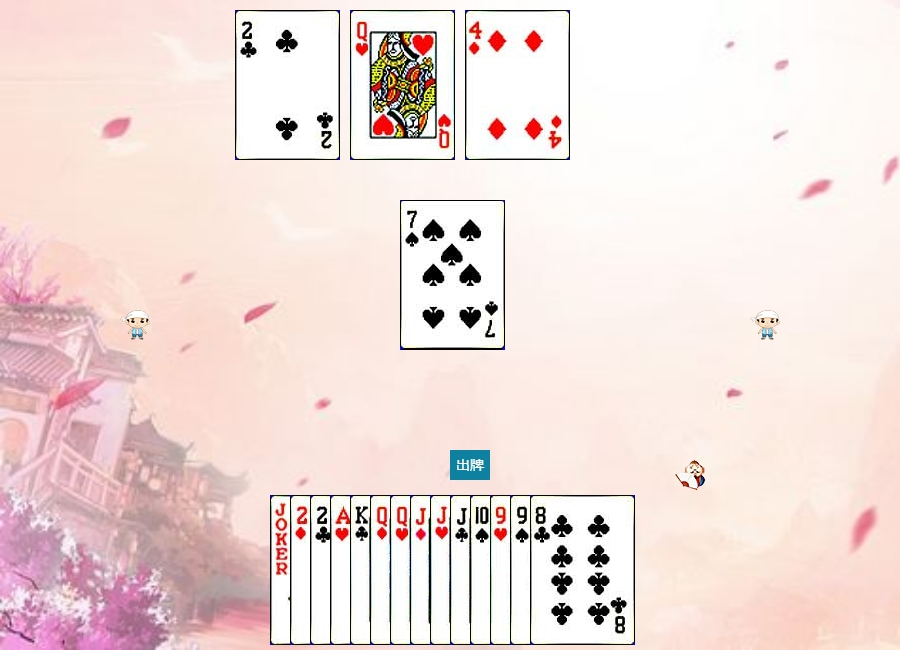10~4: (470, 495, 575, 645)
11~1: (410, 495, 515, 645)
11~2: (450, 495, 555, 645)
11~3: (430, 495, 535, 645)
12~1: (370, 495, 475, 645)
12~3: (350, 10, 455, 160), (390, 495, 495, 645)
13~2: (350, 495, 455, 645)
14~3: (330, 495, 435, 645)
15~1: (290, 495, 395, 645)
15~2: (235, 10, 340, 160), (310, 495, 415, 645)
18~4: (270, 495, 375, 645)
4~1: (465, 10, 570, 160)
7~4: (400, 200, 505, 350)
8~2: (530, 495, 635, 645)
9~3: (490, 495, 595, 645)
9~4: (510, 495, 615, 645)
